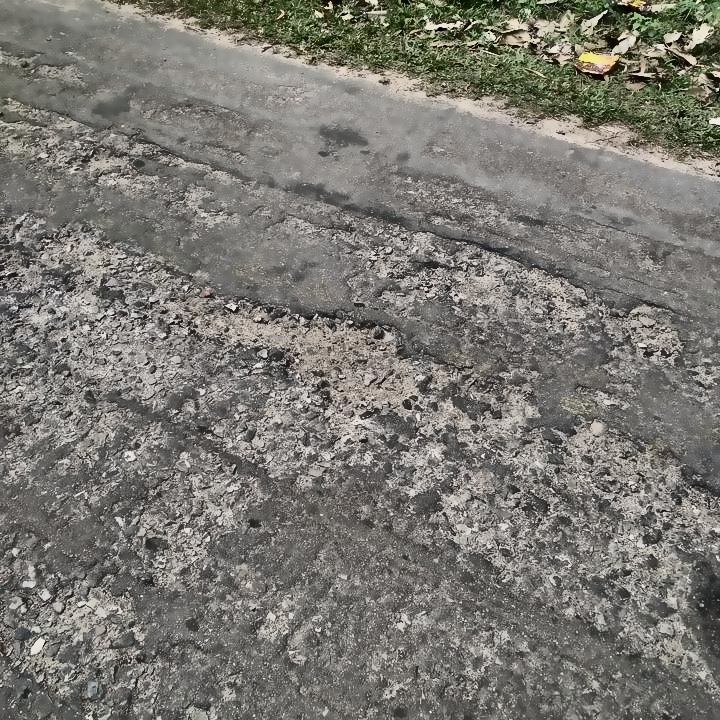pothole: (184, 295, 424, 402), (396, 230, 597, 324), (618, 301, 683, 365)
